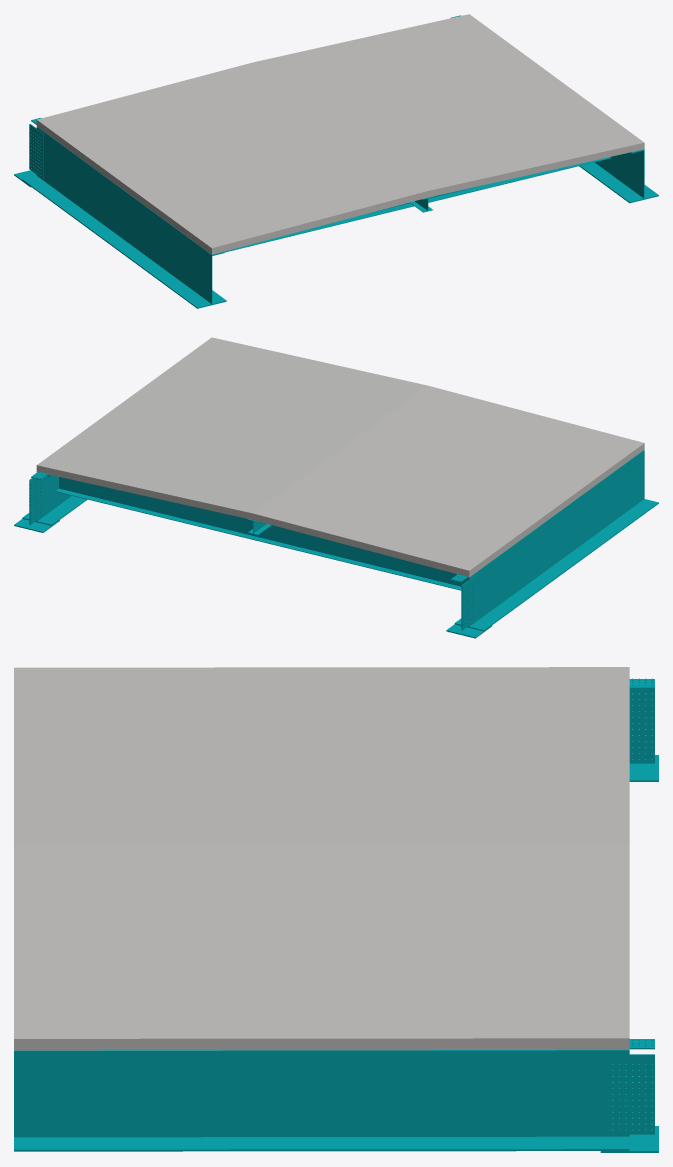
File: DECK_NS08.glb
The picture shows the model from 3 angles, top to bottom: view 1: azimuth 30°, elevation 25°; view 2: azimuth 150°, elevation 25°; view 3: azimuth 270°, elevation 25°; orthographic projection. The views are drawn at different scales.
Parts seen in each view (by area): view 1: NS08_Slab_15, NS08_G_W_0, NS08_G_E_1, NS08_FB_bf_14, NS08_SpliceW_17; view 2: NS08_Slab_15, NS08_G_W_0, NS08_FB_web_3, NS08_FB_bf_6, NS08_G_E_1, NS08_SpliceW_17, NS08_SpliceW_25; view 3: NS08_Slab_15, NS08_G_E_1, NS08_SpliceW_26, NS08_SpliceW_18.
Part boxes in pixels (x1=…): NS08_Slab_15: x1=36, y1=14, x2=644, y2=254; NS08_G_W_0: x1=22, y1=127, x2=226, y2=308; NS08_G_E_1: x1=579, y1=149, x2=658, y2=203; NS08_FB_bf_14: x1=224, y1=157, x2=610, y2=252; NS08_SpliceW_17: x1=29, y1=124, x2=43, y2=179; NS08_Slab_15: x1=36, y1=337, x2=644, y2=577; NS08_G_W_0: x1=454, y1=450, x2=658, y2=631; NS08_FB_web_3: x1=59, y1=477, x2=468, y2=586; NS08_FB_bf_6: x1=55, y1=488, x2=461, y2=590; NS08_G_E_1: x1=22, y1=472, x2=87, y2=525; NS08_SpliceW_17: x1=462, y1=575, x2=476, y2=630; NS08_SpliceW_25: x1=30, y1=478, x2=44, y2=524; NS08_Slab_15: x1=14, y1=667, x2=629, y2=1050; NS08_G_E_1: x1=14, y1=1050, x2=629, y2=1151; NS08_SpliceW_26: x1=604, y1=1055, x2=654, y2=1134; NS08_SpliceW_18: x1=629, y1=689, x2=654, y2=763.
Bounding box in the file's own units: 18.26 × 2.39 × 12.57.
